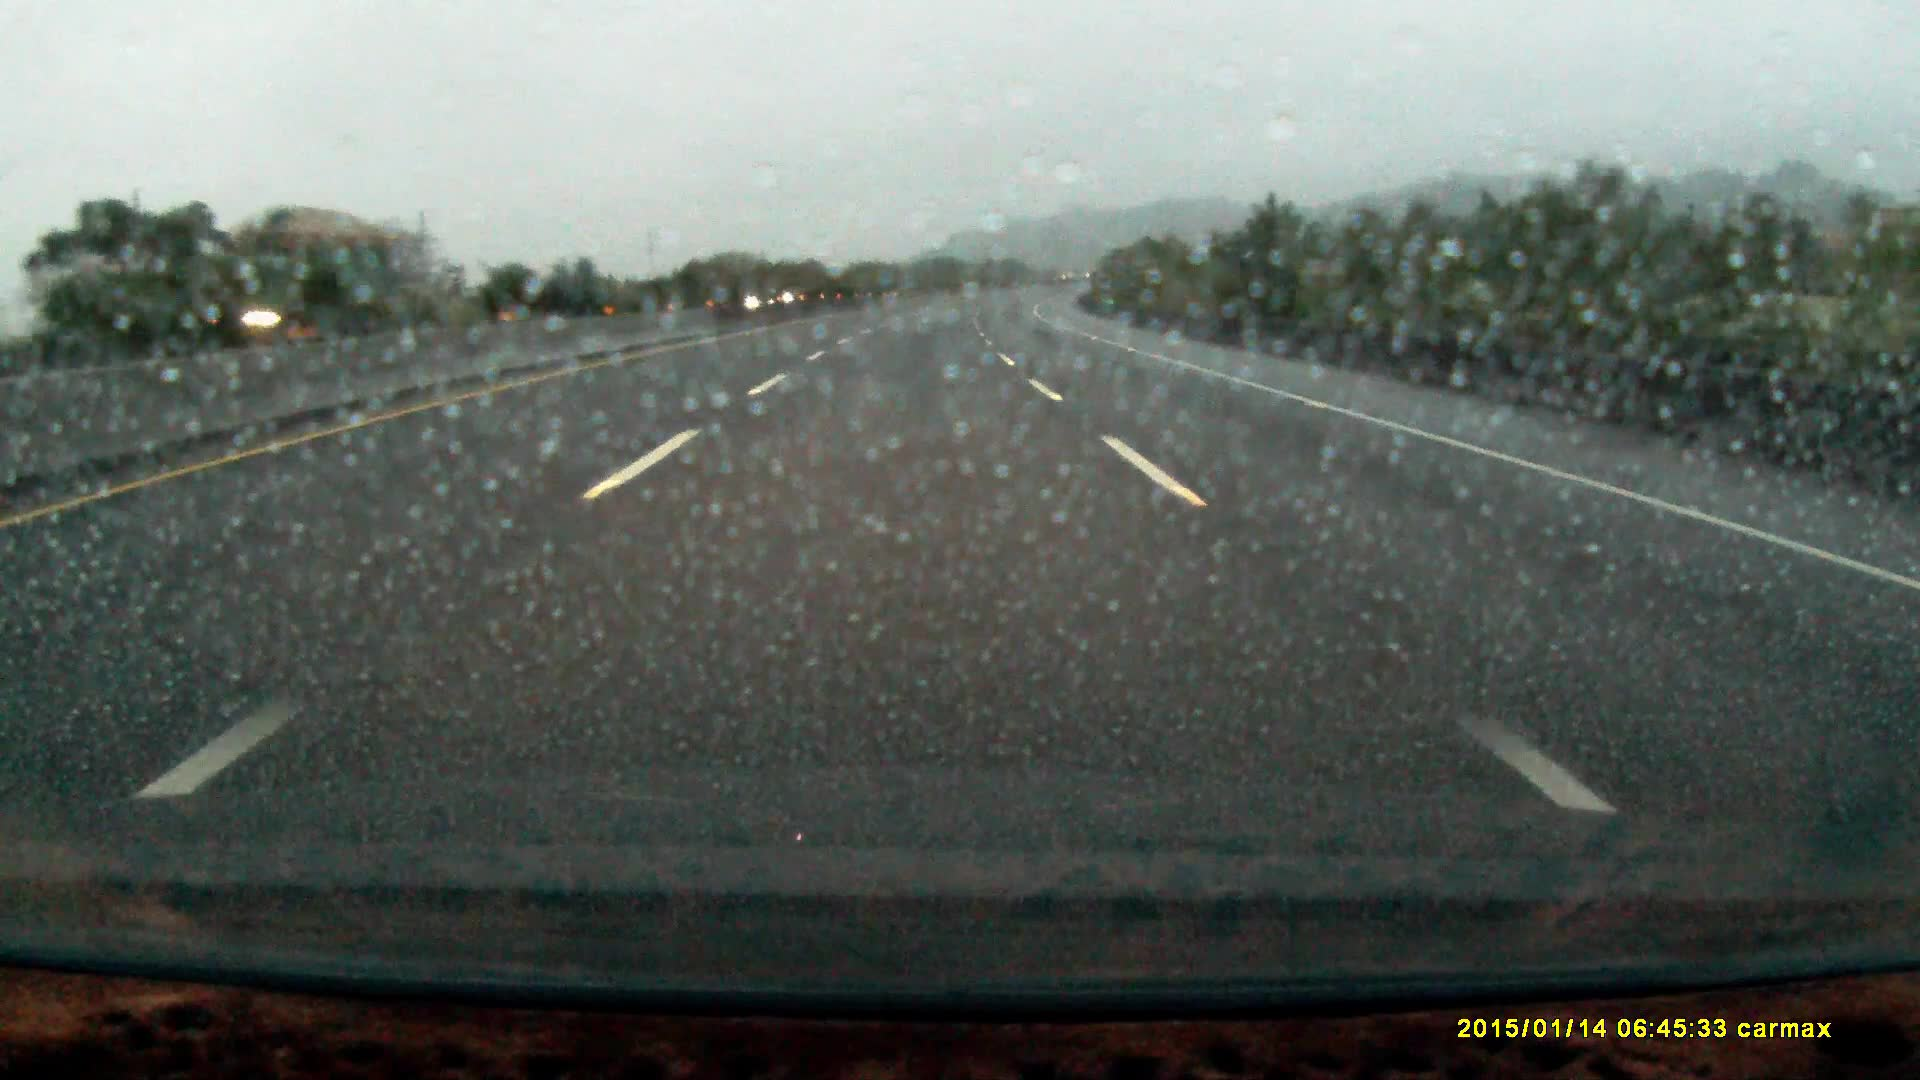vehicle: (189, 208, 396, 347)
